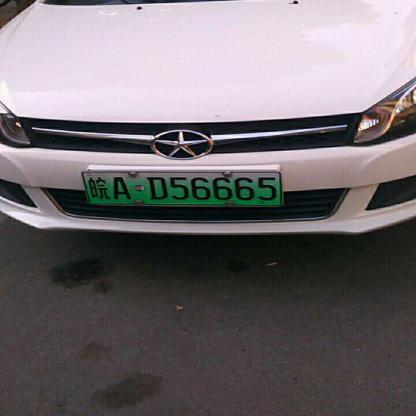lp: (80, 172, 282, 206)
